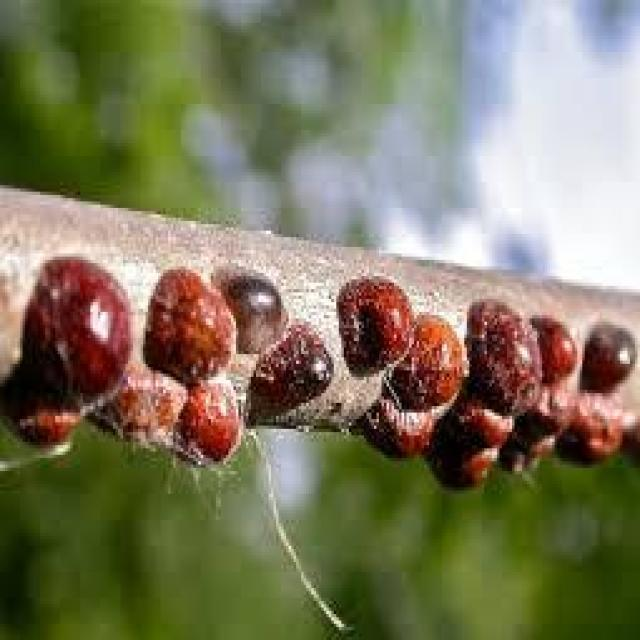BlackScale: (352, 299, 638, 498), (0, 253, 133, 454), (95, 377, 238, 461), (146, 270, 234, 384), (248, 322, 332, 426), (338, 276, 406, 379), (213, 270, 286, 351)
